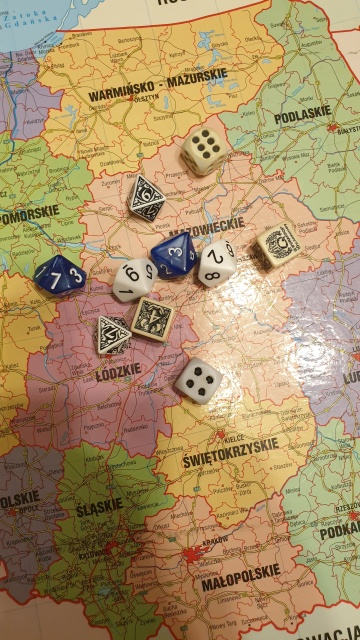d10-2: (194, 236, 240, 290)
d10-3: (154, 232, 192, 280)
d10-7: (27, 253, 90, 299)
d10-9: (107, 254, 161, 307)
d6-4: (169, 354, 230, 410)
d6-6: (180, 120, 228, 183)
d6p-4: (128, 292, 176, 348)
d6p-6: (241, 219, 310, 276)
d8p-6: (124, 170, 170, 230)
d8p-7: (86, 310, 136, 361)
